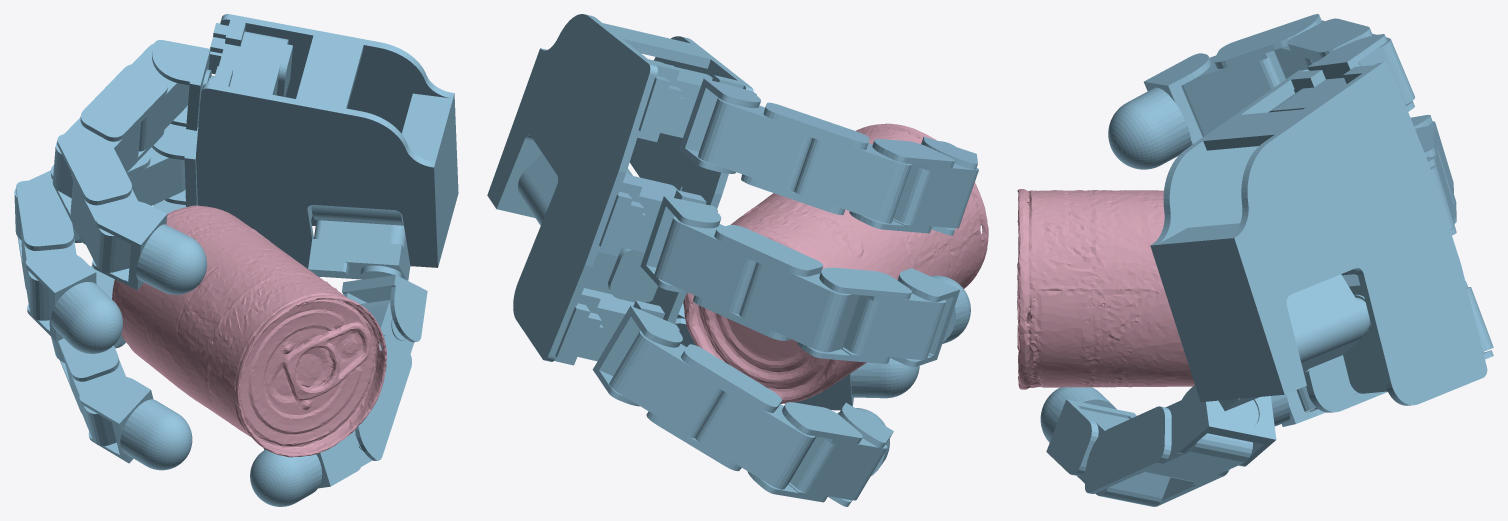
The picture shows the model from 3 angles, left to right: view 1: azimuth 30°, elevation 25°; view 2: azimuth 150°, elevation 25°; view 3: azimuth 270°, elevation 25°; orthographic projection. The views are drawn at different scales.
Visible parts, largest first — view 1: world, tomato_soup_can.stl; view 2: world, tomato_soup_can.stl; view 3: world, tomato_soup_can.stl.
Part boxes in pixels (x1,y1,x2,y2): world: [14, 14, 458, 506]; tomato_soup_can.stl: [112, 205, 386, 457]; world: [487, 14, 978, 506]; tomato_soup_can.stl: [683, 123, 988, 403]; world: [1040, 14, 1493, 506]; tomato_soup_can.stl: [1017, 189, 1194, 389].
Size of the model in its own units: 0.1887 by 0.1649 by 0.1602.
